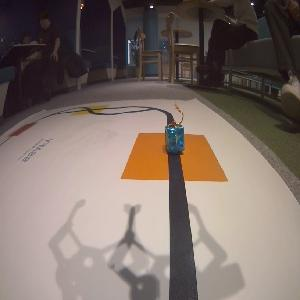box: (166, 122, 183, 158)
